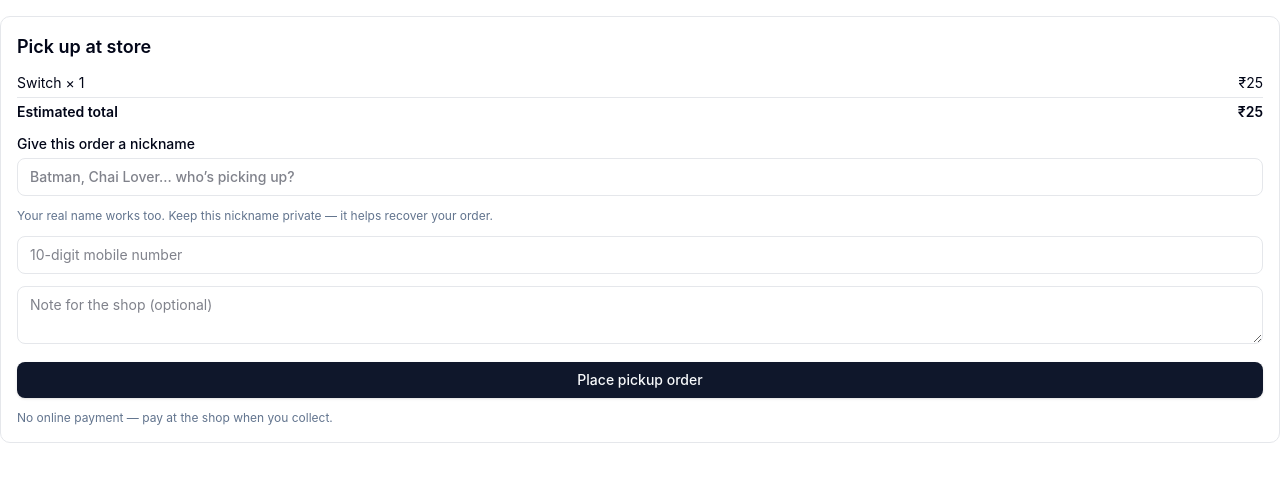
Test: never saves a pickup code when placing the order fails
The width and height of the screenshot is (1280, 492).
Type "Batman" into the field named "Order nickname" at point(640, 177), box [17,158,1263,196]
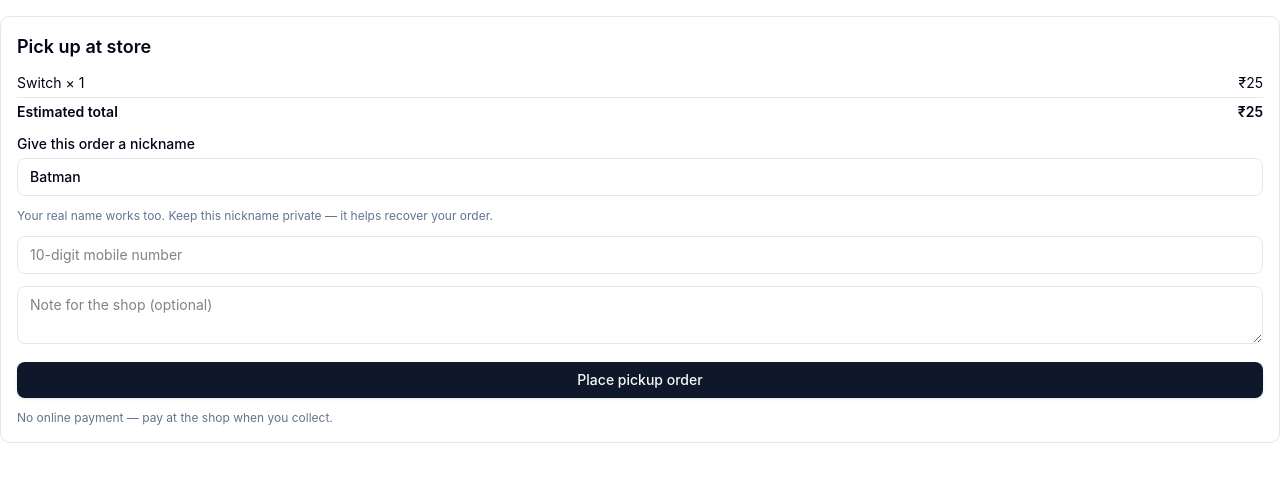
Type "9876543210" into the field labelled "mobile number" at point(640, 255), box [17,236,1263,274]
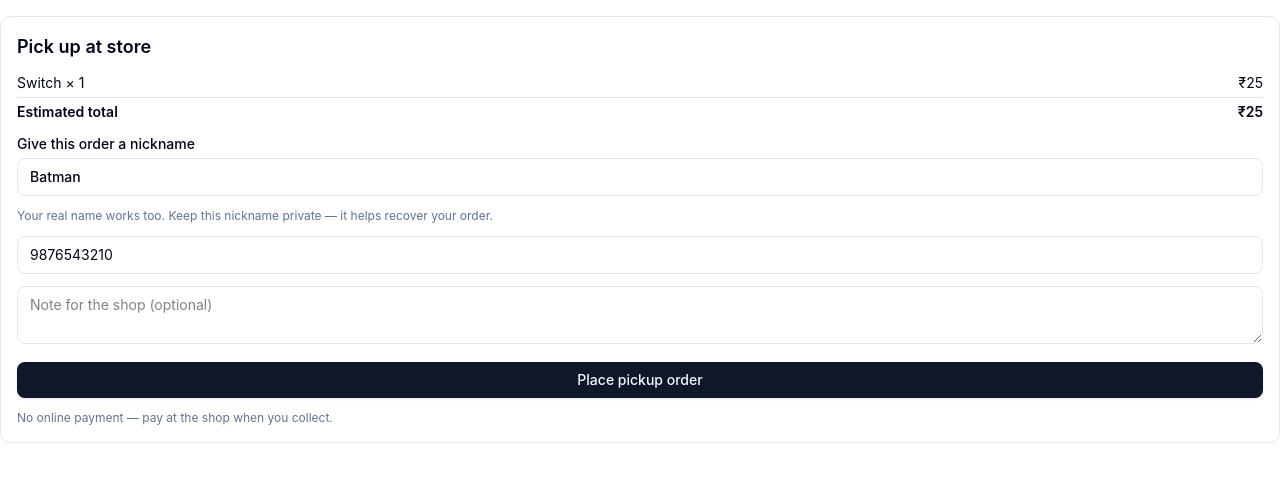
Click the button "Place pickup order" at point(640, 380), box [17,362,1263,398]
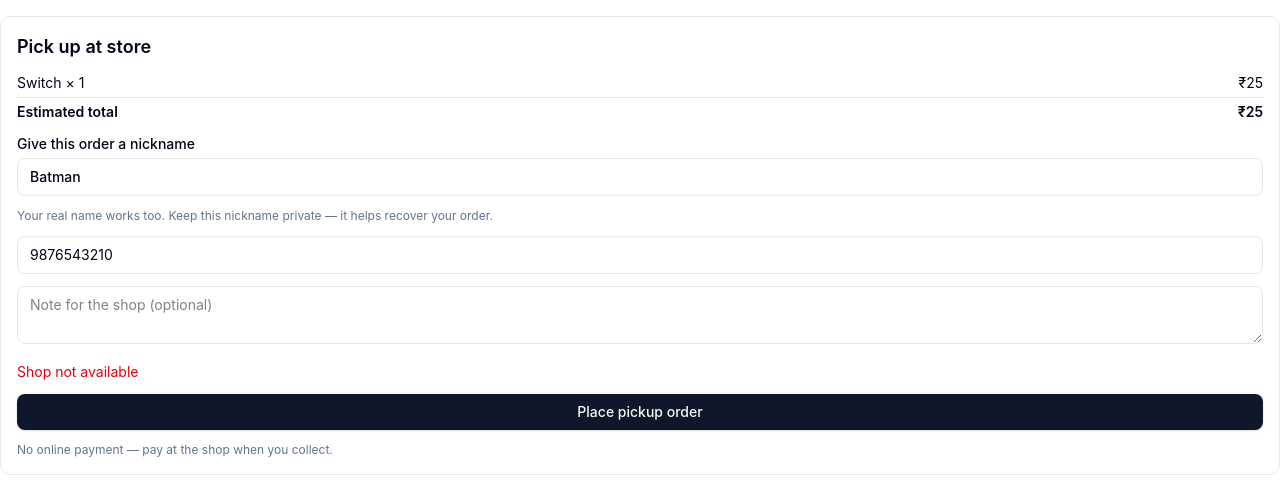
Expected: the text "Shop not available" is shown, [17,363,138,380]
